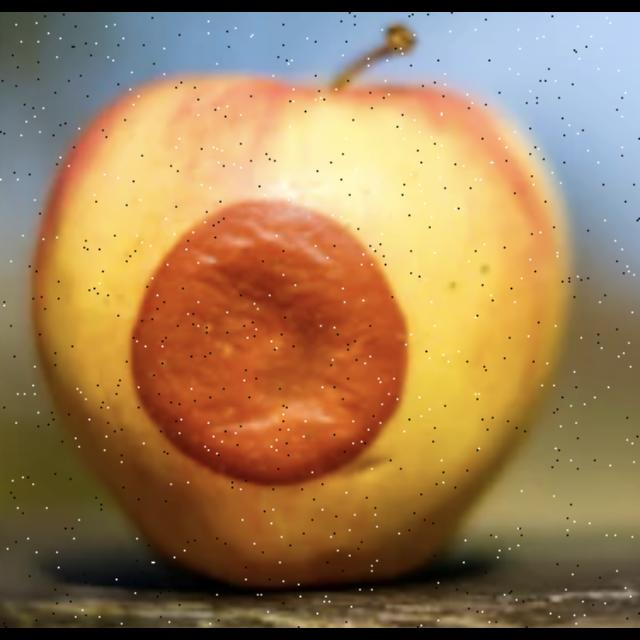Apel Tidak Segar: (31, 69, 587, 592)
